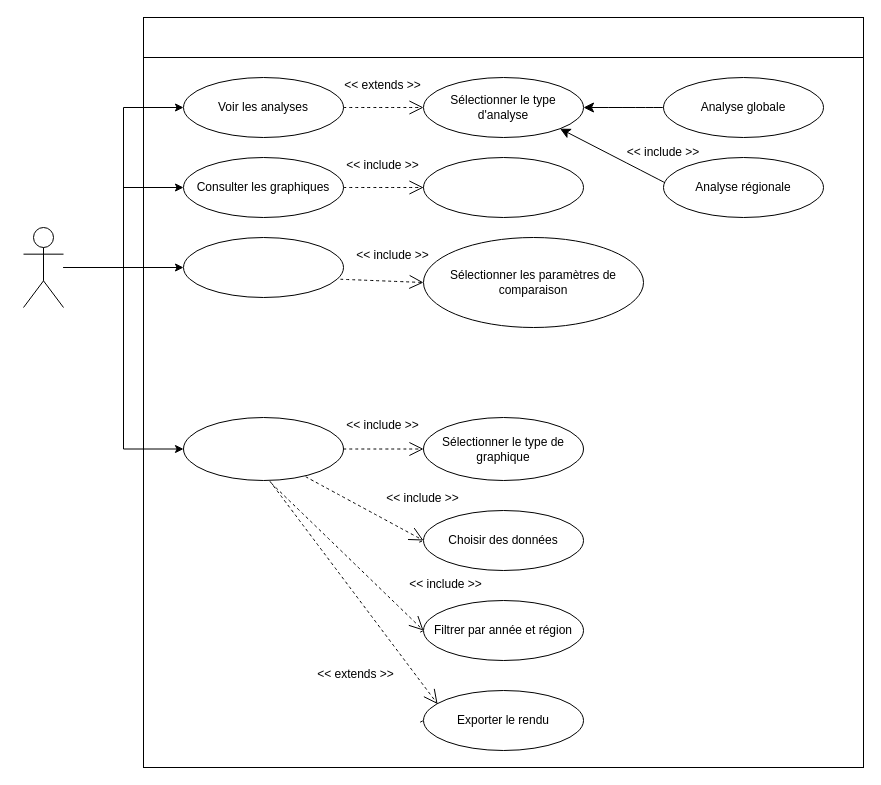
Some shapes in this 881 by 785 pixel diagram are drawn without their labels. Here are the shapes that lost their labels. From the top down, the centre of each, then its label:
point (503, 37): Dashboard Datavisualisation
point (503, 187): Sélectionner une zone
point (43, 267): Utilisateur
point (263, 267): Comparer des données
point (263, 448): Générer un graphique
